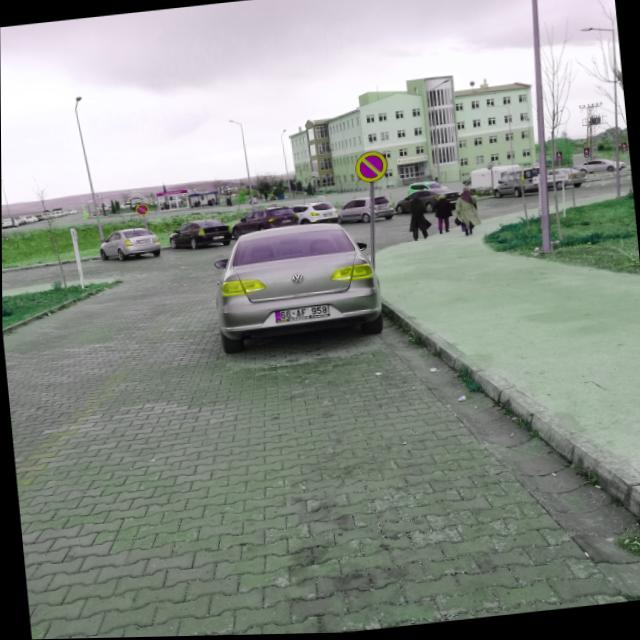license_plate: (274, 307, 328, 322)
